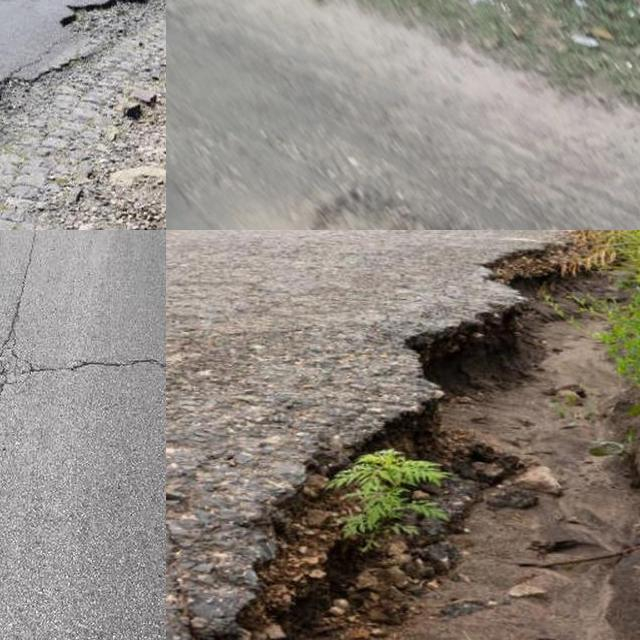Lubang: (323, 180, 498, 230)
Melintang: (12, 348, 166, 387)
Memanjang: (0, 230, 49, 444)
Pinggir: (191, 230, 609, 640), (0, 0, 166, 230)
